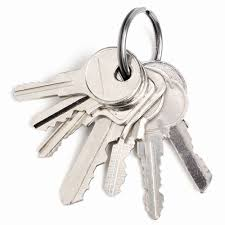kicharina: (6, 42, 140, 105)
